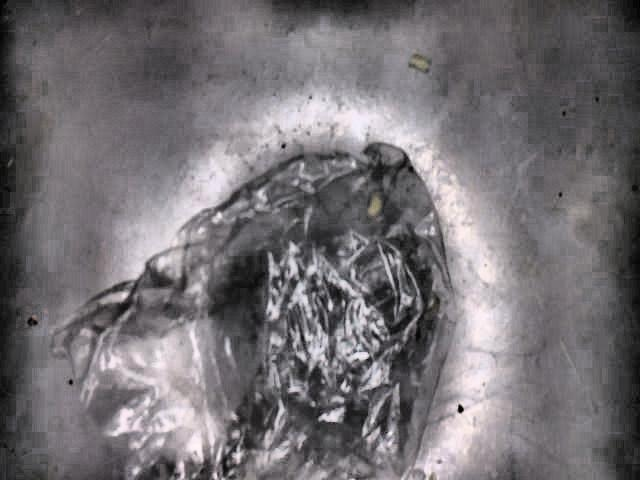Plastic: (54, 139, 461, 480)
